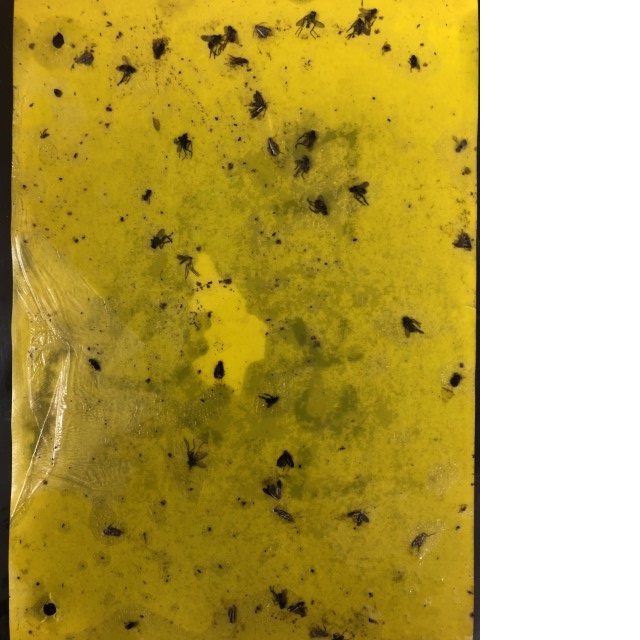DBM: (243, 88, 270, 121), (408, 530, 437, 555), (346, 504, 372, 529), (263, 133, 285, 159), (272, 449, 296, 472), (450, 227, 472, 251), (259, 479, 283, 501), (269, 505, 295, 525), (251, 19, 273, 42), (287, 599, 307, 619), (225, 604, 240, 625)
